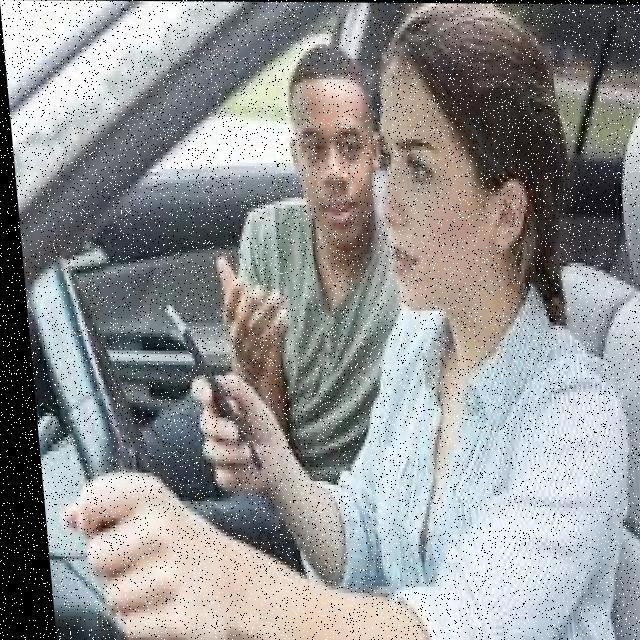noSeatbelt: (328, 299, 629, 640), (215, 199, 416, 473)
